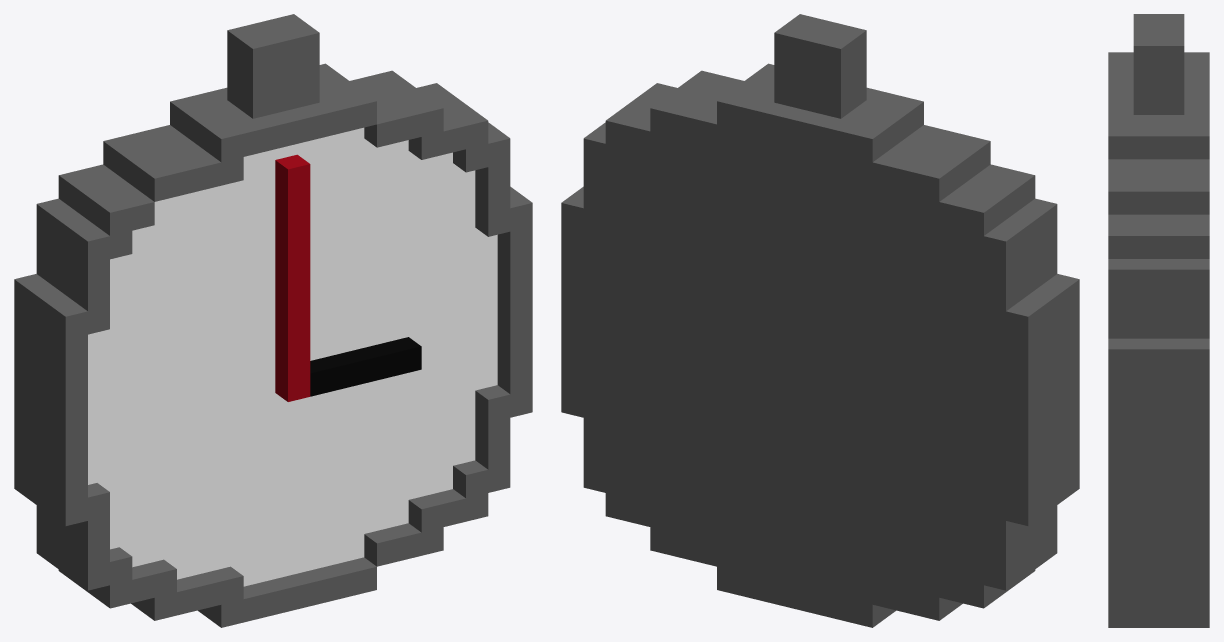
File: Clock.dae
The picture shows the model from 3 angles, left to right: view 1: azimuth 30°, elevation 25°; view 2: azimuth 150°, elevation 25°; view 3: azimuth 270°, elevation 25°; orthographic projection.
Parts seen in each view (by area): view 1: Police; view 2: Police; view 3: Police.
Part boxes in pixels (box(x1,y1,x2,y2)): Police: box(14, 14, 532, 627); Police: box(561, 14, 1079, 627); Police: box(1108, 14, 1209, 627).
Bounding box in the file's own units: 21 × 24 × 4.
1 material, 1 textured.
